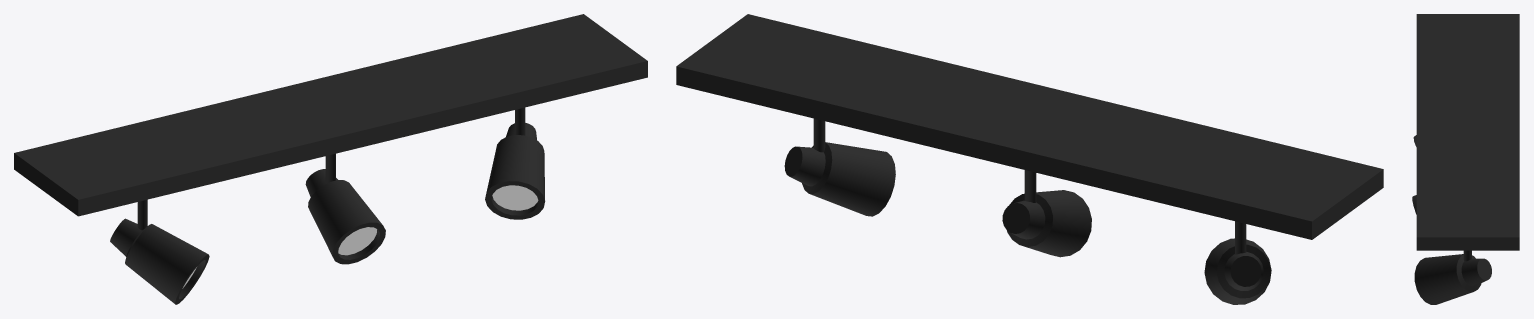
The model's file is Ceiling Lamp 13.FBX.
3 renders of one model, left to right at view 1: azimuth 30°, elevation 25°; view 2: azimuth 150°, elevation 25°; view 3: azimuth 270°, elevation 25°, orthographic. The views are drawn at different scales.
Visible parts, largest first — view 1: Ceiling lamp 13; view 2: Ceiling lamp 13; view 3: Ceiling lamp 13.
Boxes of the visible parts, x1,y1,x2,y2 form: Ceiling lamp 13: (14,14,647,304); Ceiling lamp 13: (676,14,1383,304); Ceiling lamp 13: (1412,14,1519,304).
Size of the model in its own units: 76.85 by 18.06 by 15.62.
2 materials, 1 textured.
